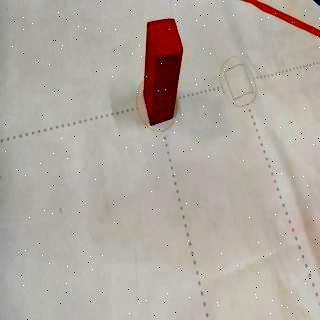redbox: (144, 16, 184, 126)
